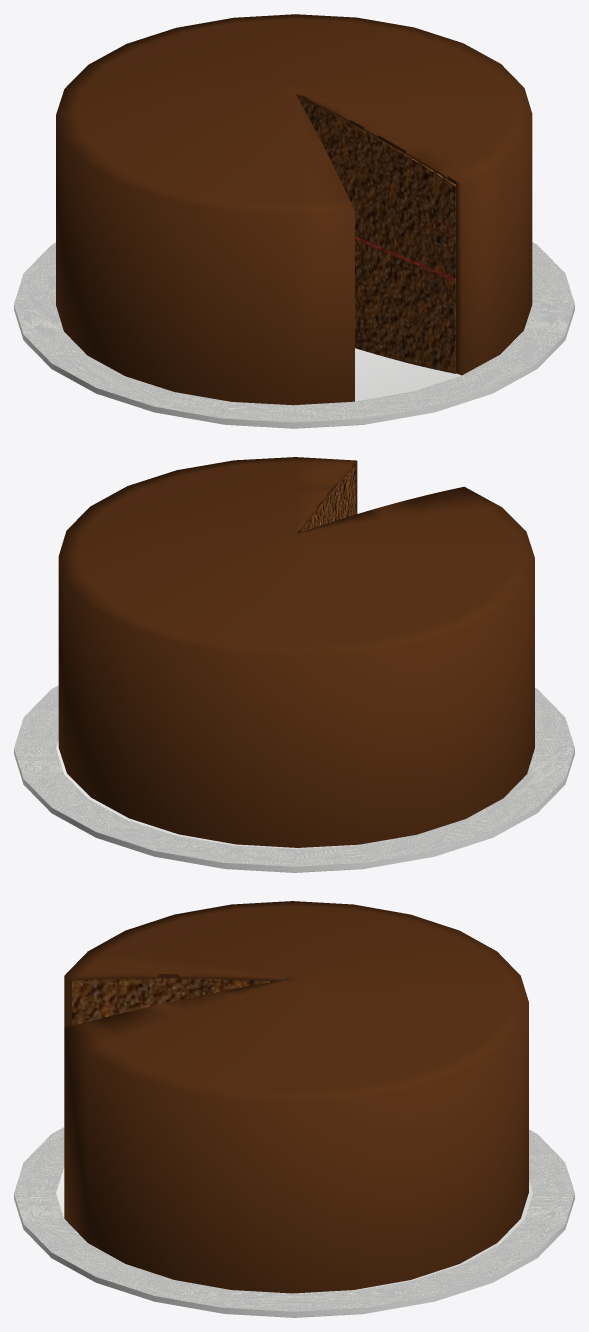
The model's file is a_cake.dae.
3 renders of one model, top to bottom at view 1: azimuth 30°, elevation 25°; view 2: azimuth 150°, elevation 25°; view 3: azimuth 270°, elevation 25°, orthographic.
Parts seen in each view (by area): view 1: group_3, group_5 (×4), group_1, group_2; view 2: group_3, group_5 (×4), group_1; view 3: group_3, group_5 (×4), group_1.
Boxes of the visible parts, box(x1,y1,x2,y2) form: group_3: box(56, 14, 532, 405); group_5 (×4): box(14, 242, 574, 428); group_1: box(297, 96, 455, 278); group_2: box(355, 236, 456, 373); group_3: box(58, 457, 534, 847); group_5 (×4): box(14, 685, 574, 872); group_1: box(300, 467, 355, 532); group_3: box(64, 901, 528, 1293); group_5 (×4): box(14, 1127, 574, 1317); group_1: box(72, 978, 275, 1025).
Bounding box in the file's own units: 11 × 11 × 5.14.
